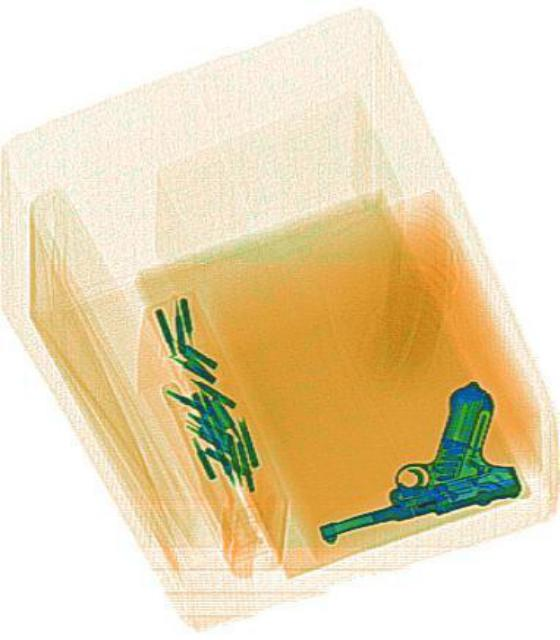Gun: (293, 374, 520, 544)
